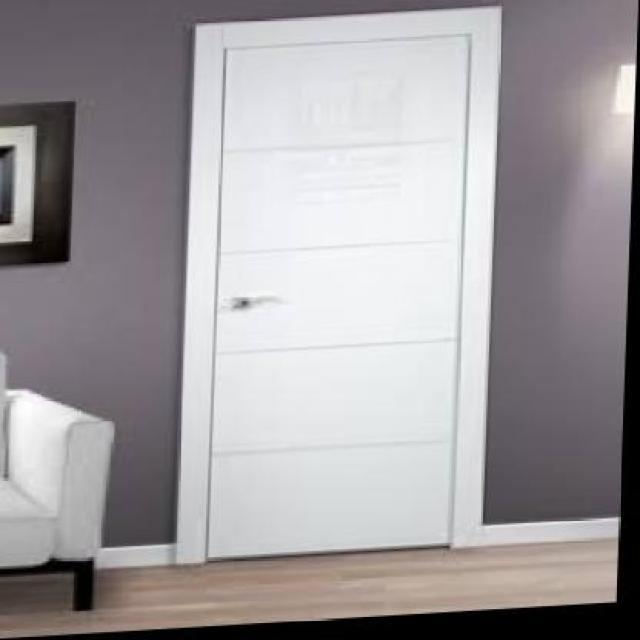door: (204, 16, 472, 578)
